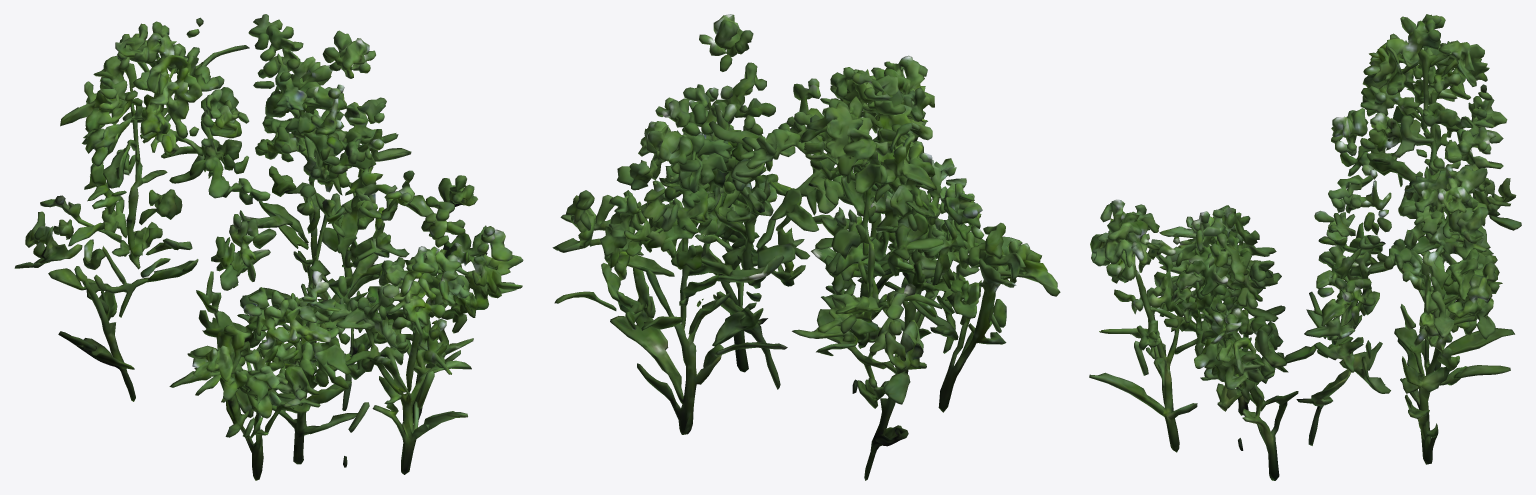
The model's file is herb0002_dup.gltf.
3 renders of one model, left to right at view 1: azimuth 30°, elevation 25°; view 2: azimuth 150°, elevation 25°; view 3: azimuth 270°, elevation 25°, orthographic. The views are drawn at different scales.
Parts seen in each view (by area): view 1: Mesh_0; view 2: Mesh_0; view 3: Mesh_0.
Part boxes in pixels (bbox=[...]): Mesh_0: bbox=[14, 14, 523, 480]; Mesh_0: bbox=[552, 14, 1060, 480]; Mesh_0: bbox=[1089, 14, 1521, 480].
Bounding box in the file's own units: 1.79 × 1.9 × 1.93.
1 material, 1 textured.
